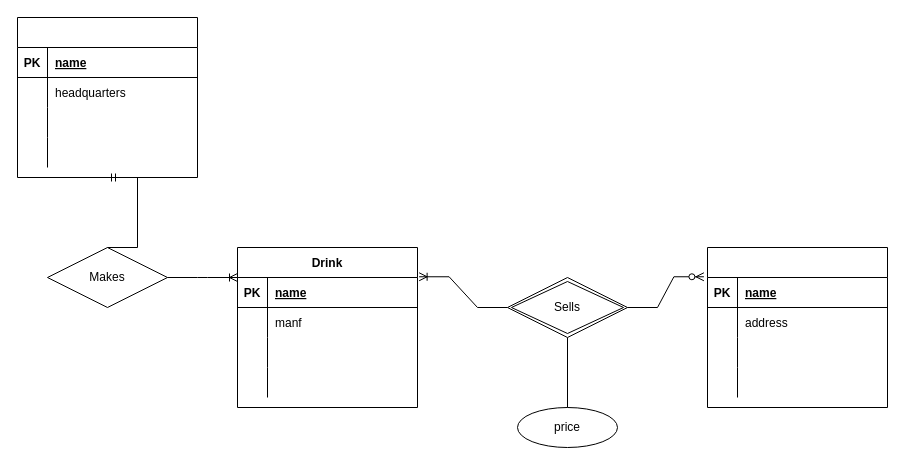
Some shapes in this 905 by 465 pixel diagram are drawn without their labels. Each missing label, with the box of its shape:
Cafe: (706, 246, 888, 408)
Manufacturer: (16, 16, 198, 178)
